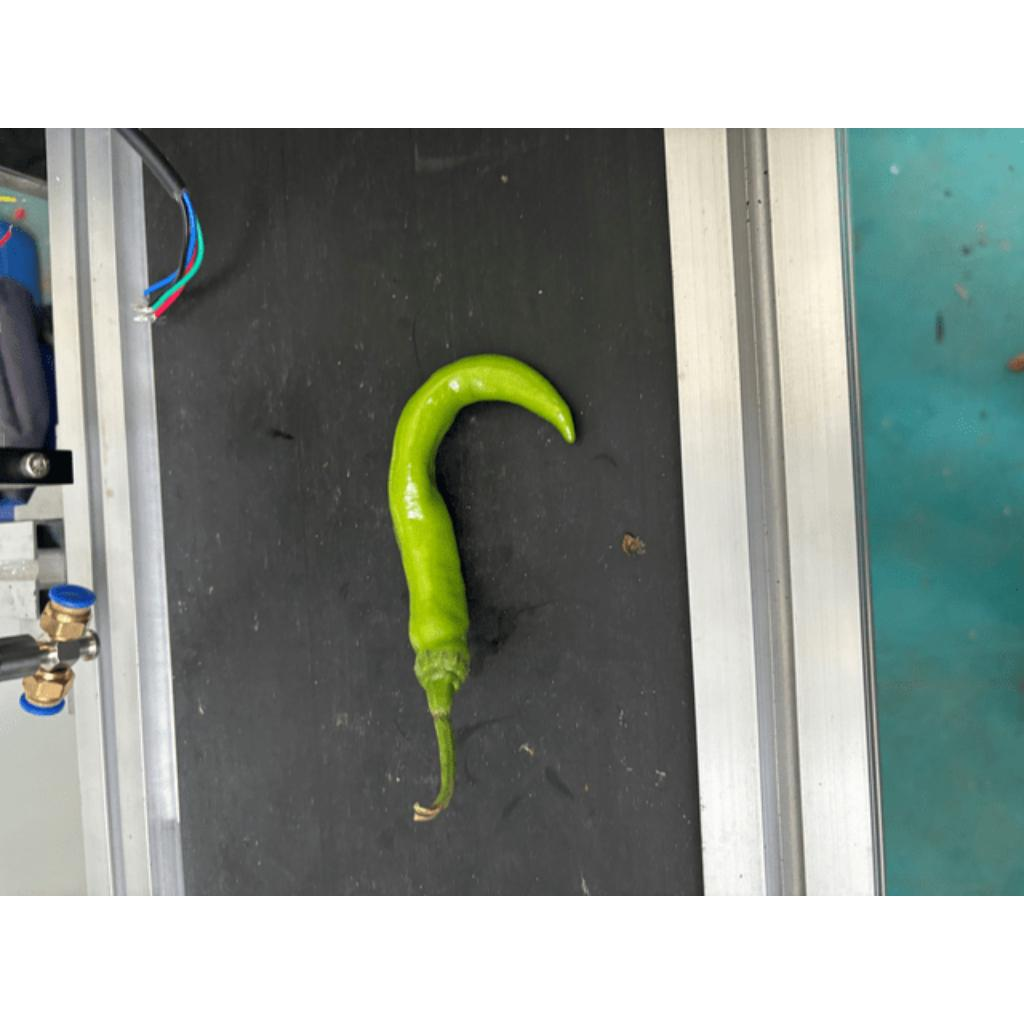chili: (387, 349, 579, 694)
